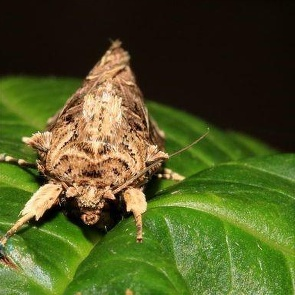Spodoptera litura: (0, 36, 210, 248)
